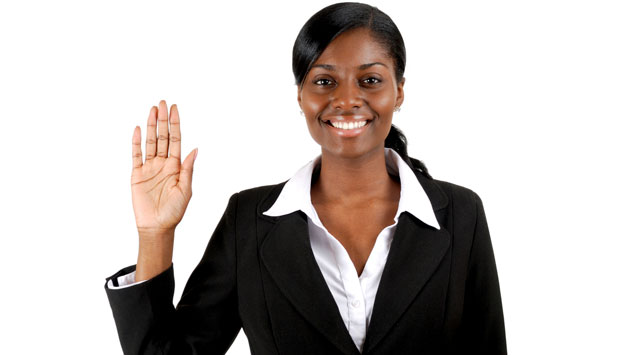open_hand: (108, 84, 231, 248)
